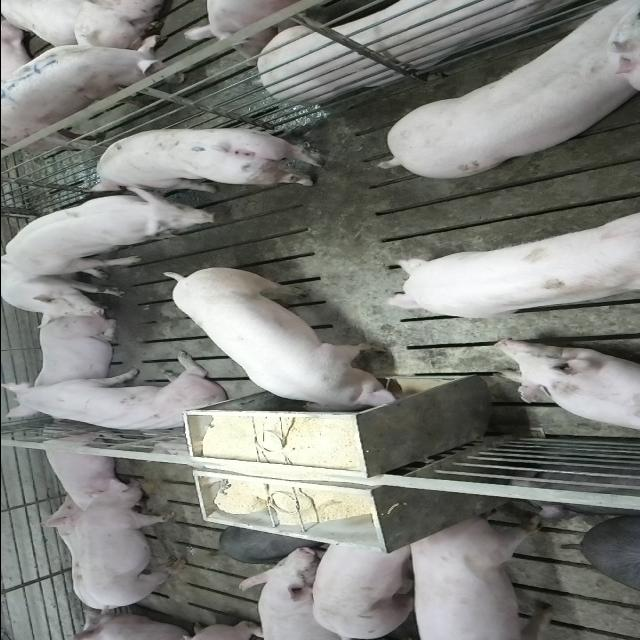Feeding: (162, 271, 403, 421)
Sitting: (5, 354, 228, 436), (1, 258, 131, 322)
Standing: (372, 6, 636, 184), (390, 196, 640, 322), (3, 190, 250, 284), (0, 32, 192, 150), (404, 515, 560, 638), (85, 124, 332, 192), (78, 481, 190, 612), (237, 549, 385, 640), (310, 540, 416, 638)
Sternal_lying: (221, 0, 587, 100), (492, 340, 640, 435), (29, 314, 122, 396), (36, 429, 132, 507)
